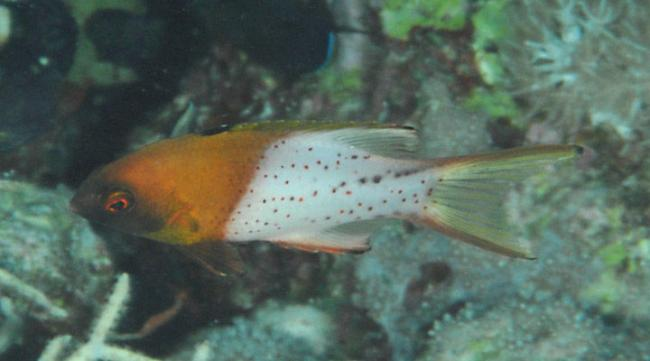fish: (71, 120, 582, 263)
